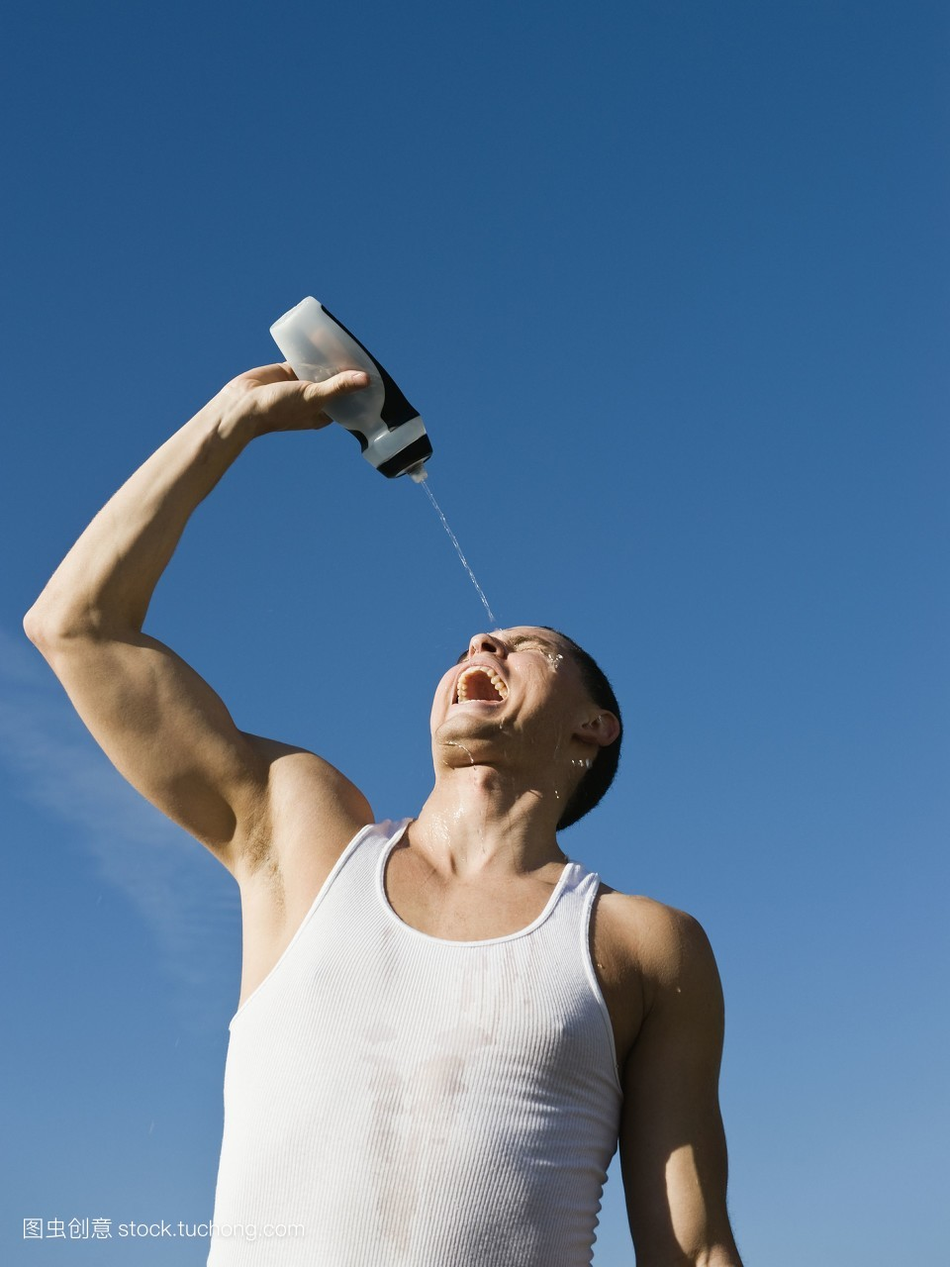handsup: (26, 271, 813, 1256)
